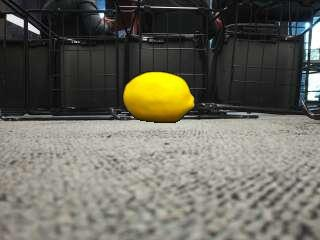lemon: (124, 72, 194, 123)
